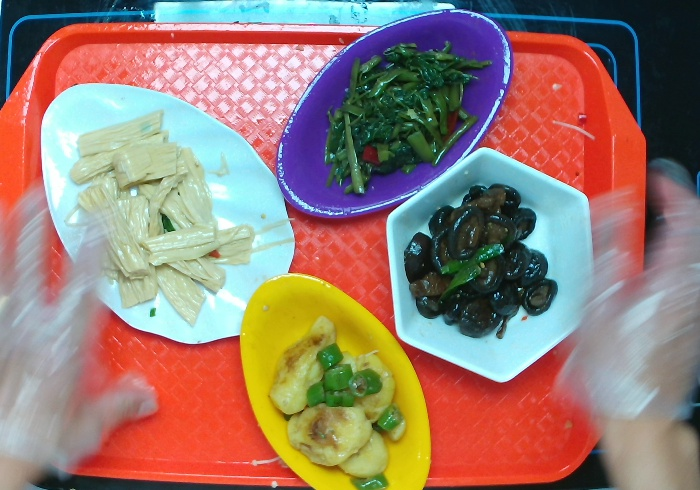RJxy-Bai_Ye_Pan: (39, 82, 313, 346)
RJxy-Fen_Hong_Tuo_Yuan: (279, 4, 518, 225)
RJxy-Huang_Se_Tuo_Yuan: (233, 267, 438, 490)
RJxy-Liu_Jiao_Wan: (383, 149, 598, 385)
